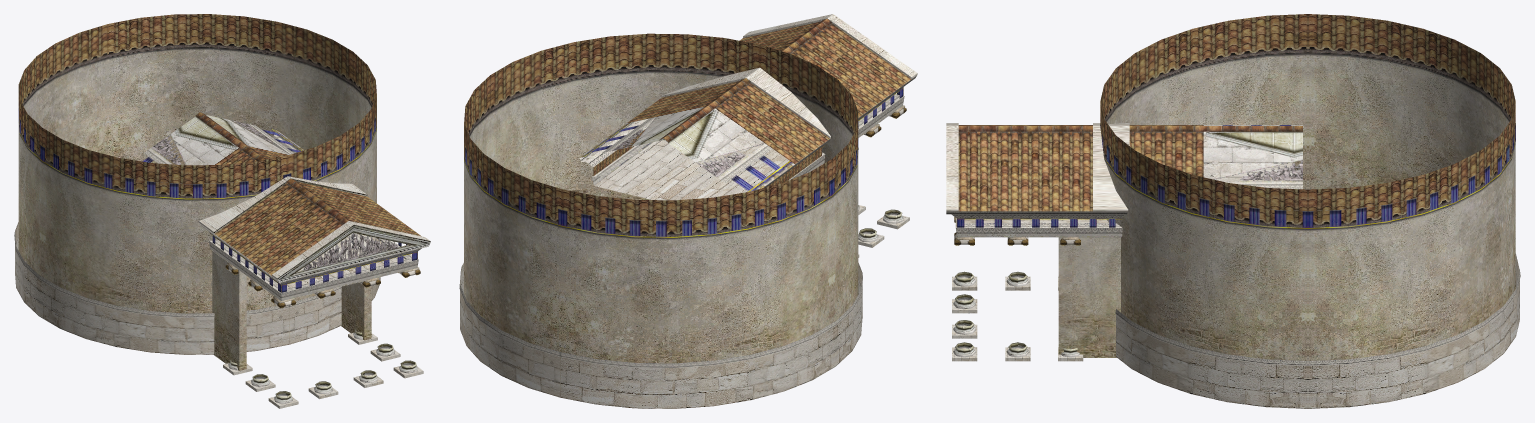
Rendered from hele_Prytaneion_struct.dae.
3 views of the same model, side by side, from view 1: azimuth 30°, elevation 25°; view 2: azimuth 150°, elevation 25°; view 3: azimuth 270°, elevation 25° (orthographic). The views are drawn at different scales.
Visible parts, largest first — view 1: helle_Prytaneion_struct; view 2: helle_Prytaneion_struct; view 3: helle_Prytaneion_struct.
Part boxes in pixels (left/top/right/bottom): helle_Prytaneion_struct: left=14, top=14, right=430, bottom=408; helle_Prytaneion_struct: left=459, top=14, right=917, bottom=408; helle_Prytaneion_struct: left=946, top=14, right=1520, bottom=408.
Bounding box in the file's own units: 19.97 × 11.33 × 26.96.
